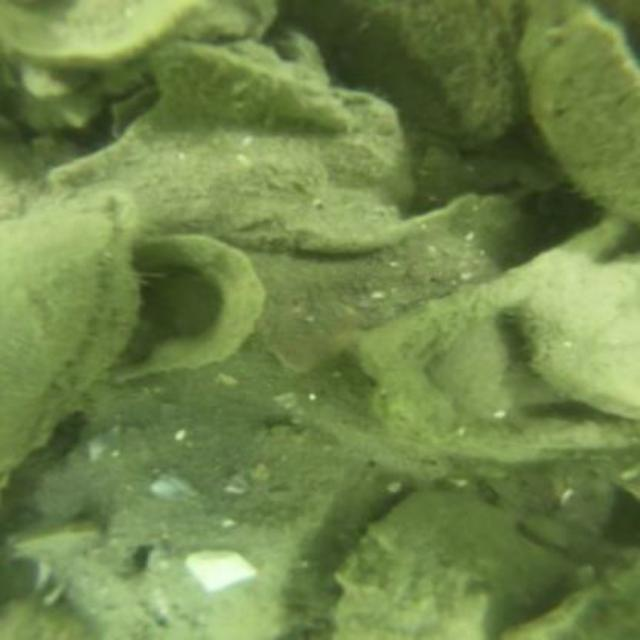Oyster-Closed: (36, 398, 349, 638), (352, 214, 638, 465), (48, 94, 409, 250), (264, 190, 536, 366), (6, 198, 141, 472), (286, 1, 517, 144), (332, 494, 560, 638), (100, 224, 268, 387), (521, 260, 638, 420), (155, 42, 356, 130), (139, 526, 295, 638), (15, 1, 279, 60), (500, 556, 637, 638)
Oyster-Open: (528, 0, 638, 226)
